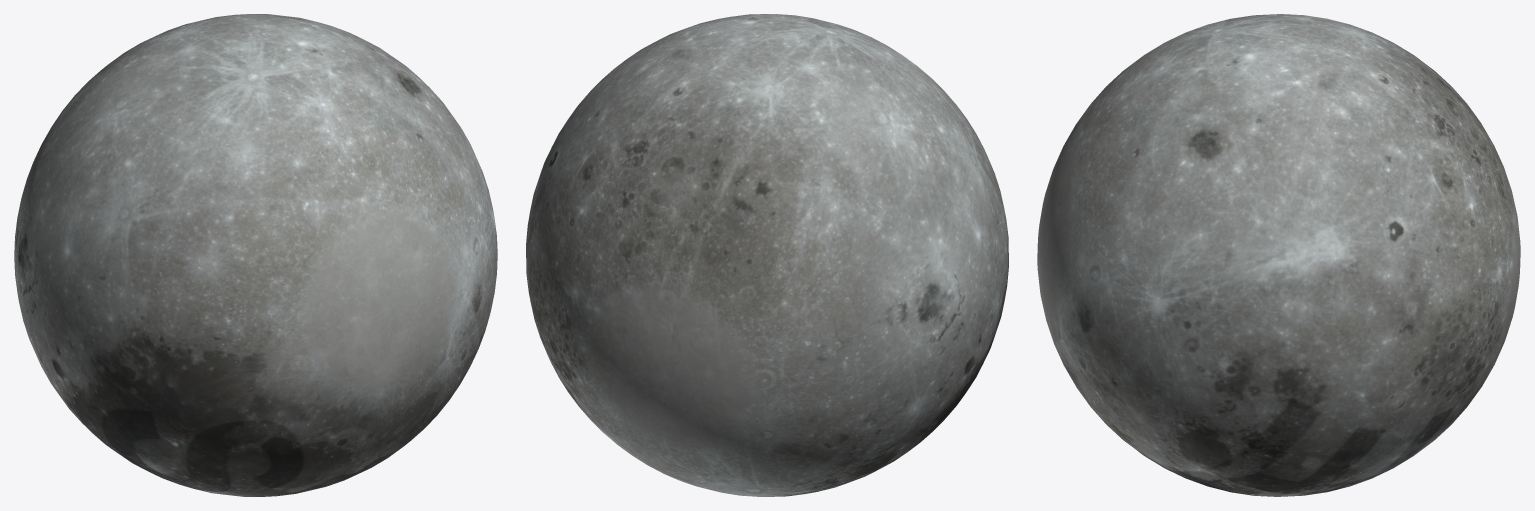
The model's file is moon_19.glb.
3 views of the same model, side by side, from view 1: azimuth 30°, elevation 25°; view 2: azimuth 150°, elevation 25°; view 3: azimuth 270°, elevation 25° (orthographic).
Visible parts, largest first — view 1: Sphere; view 2: Sphere; view 3: Sphere.
Part boxes in pixels (<box>): Sphere: <box>14,14,497,496</box>; Sphere: <box>526,14,1008,496</box>; Sphere: <box>1037,14,1520,496</box>.
Size of the model in its own units: 1.98 by 1.98 by 1.98.
1 material, 1 textured.
